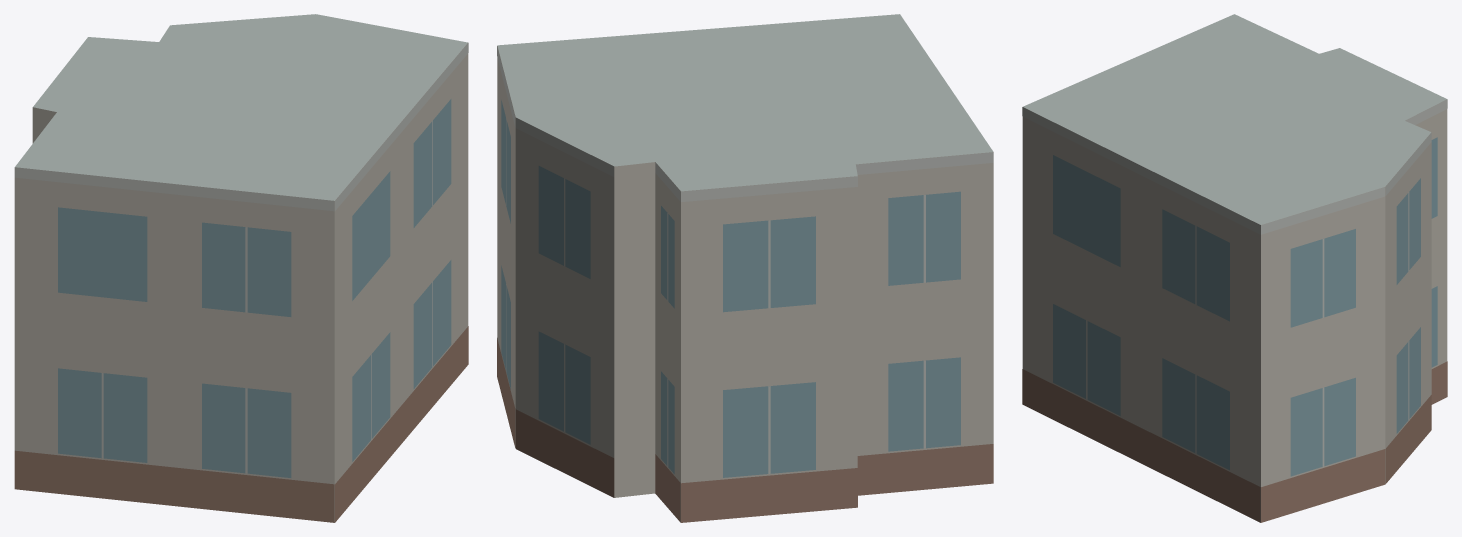
File: survey-upis-32604437.glb
The picture shows the model from 3 angles, left to right: view 1: azimuth 30°, elevation 25°; view 2: azimuth 150°, elevation 25°; view 3: azimuth 270°, elevation 25°; orthographic projection. The views are drawn at different scales.
Visible parts, largest first — view 1: survey-upis-32604437.tmp; view 2: survey-upis-32604437.tmp; view 3: survey-upis-32604437.tmp.
Part boxes in pixels (<box>): survey-upis-32604437.tmp: <box>14,14,468,522</box>; survey-upis-32604437.tmp: <box>497,14,993,522</box>; survey-upis-32604437.tmp: <box>1022,14,1447,522</box>.
Size of the model in its own units: 11.42 by 7.5 by 9.71.
